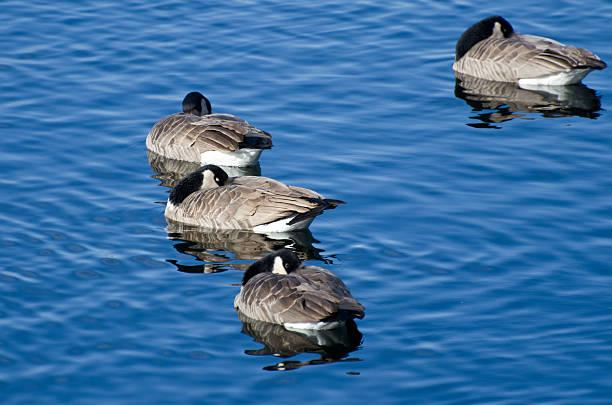Canadian-Goose: (163, 164, 344, 235), (453, 15, 606, 91), (236, 248, 365, 335), (145, 90, 271, 169)
